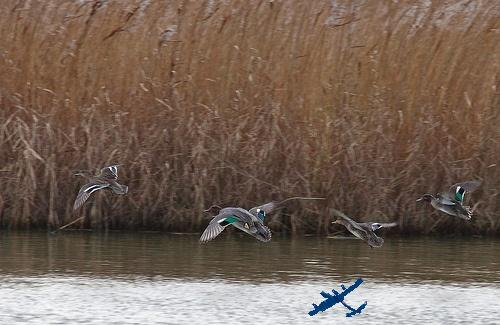tampered: (309, 279, 367, 317)
